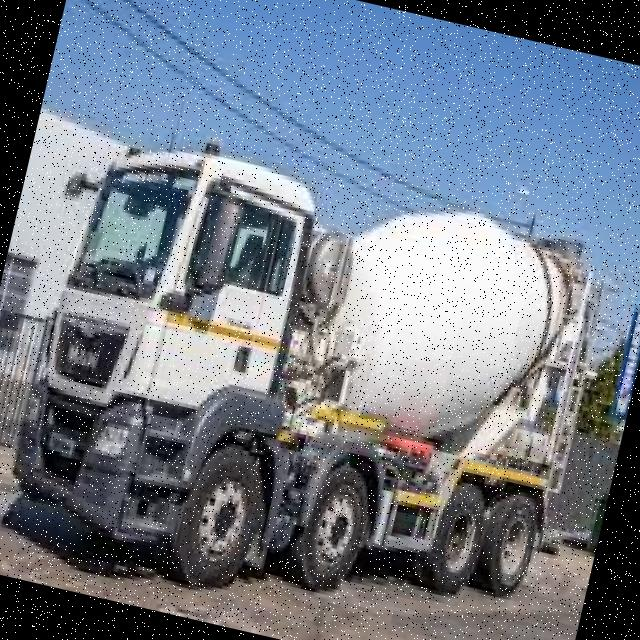Mixer Truck: (0, 113, 633, 640)
